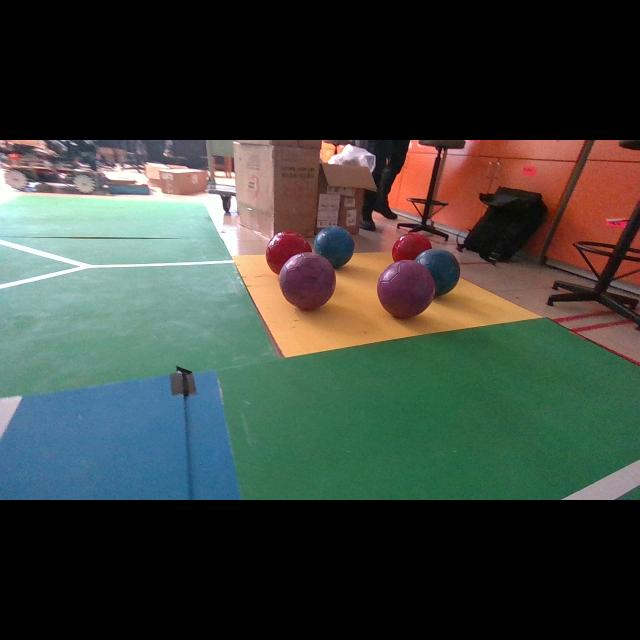B: (415, 249, 460, 296), (314, 225, 355, 269)
P: (378, 260, 435, 319), (279, 252, 336, 310)
R: (268, 231, 312, 274), (391, 232, 431, 261)
